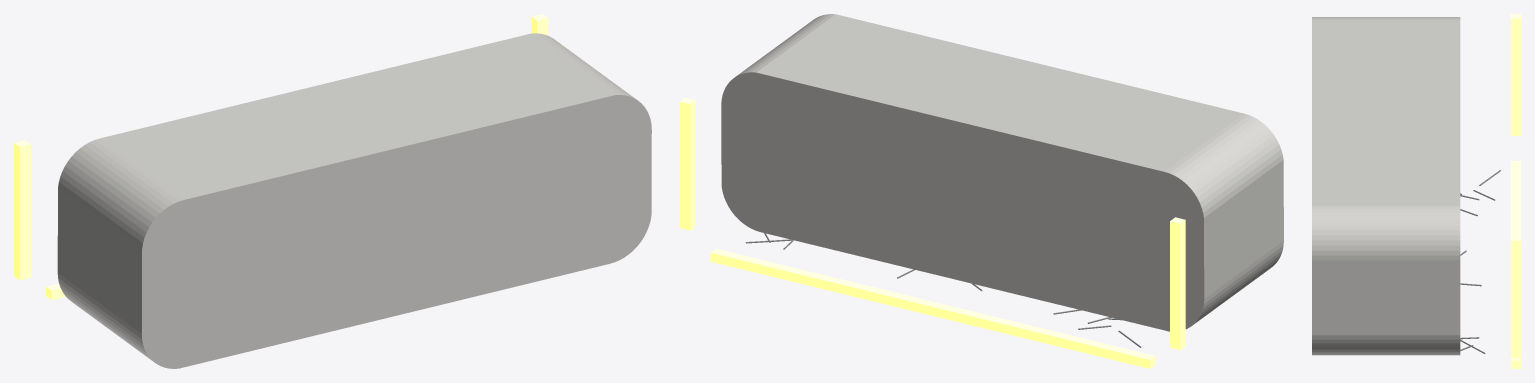
Rendered from RECEPTION_DESK_MARBLE_HERO_001.glb.
3 renders of one model, left to right at view 1: azimuth 30°, elevation 25°; view 2: azimuth 150°, elevation 25°; view 3: azimuth 270°, elevation 25°, orthographic. The views are drawn at different scales.
Visible parts, largest first — view 1: curved_marble_body_000, underglow_left_003; view 2: curved_marble_body_000, underglow_front_002, underglow_right_004, underglow_left_003; view 3: curved_marble_body_000, underglow_right_004, underglow_left_003, underglow_front_002.
Boxes of the visible parts, x1,y1,x2,y2 form: curved_marble_body_000: (57,33,651,368); underglow_left_003: (14,140,30,280); curved_marble_body_000: (721,14,1283,331); underglow_front_002: (710,248,1155,368); underglow_right_004: (680,97,695,230); underglow_left_003: (1170,217,1185,349); curved_marble_body_000: (1312,17,1460,355); underglow_right_004: (1510,236,1520,358); underglow_left_003: (1510,14,1520,135); underglow_front_002: (1510,161,1520,368).
Bounding box in the file's own units: 2.9 × 0.935 × 1.13.
